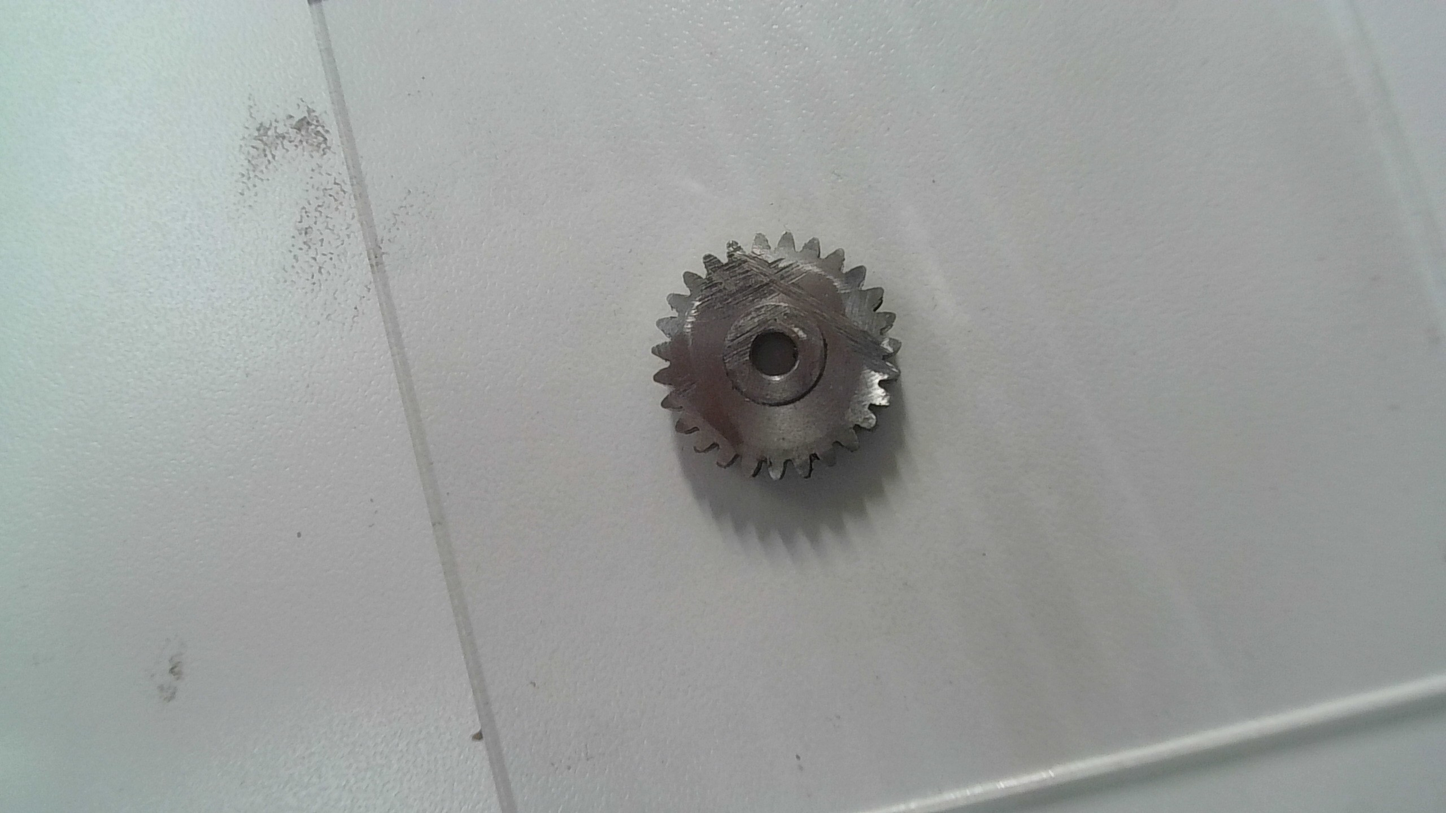gear: (651, 223, 904, 477)
